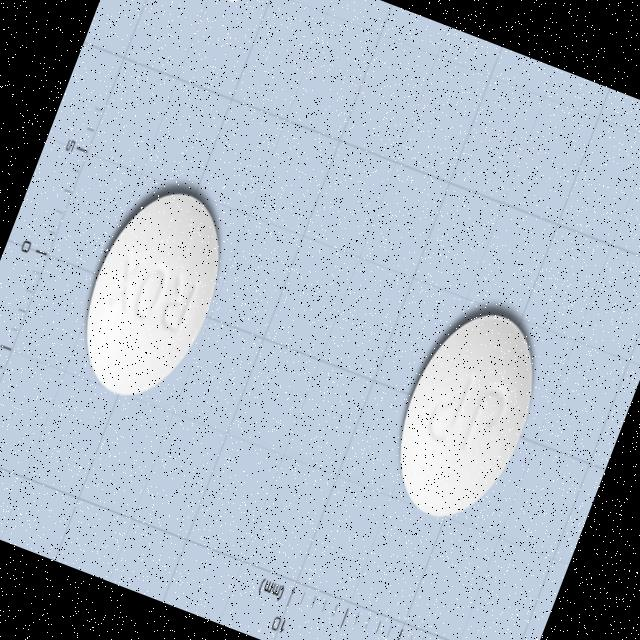Roxinmycin Tab: (59, 174, 246, 416), (372, 294, 558, 536)
